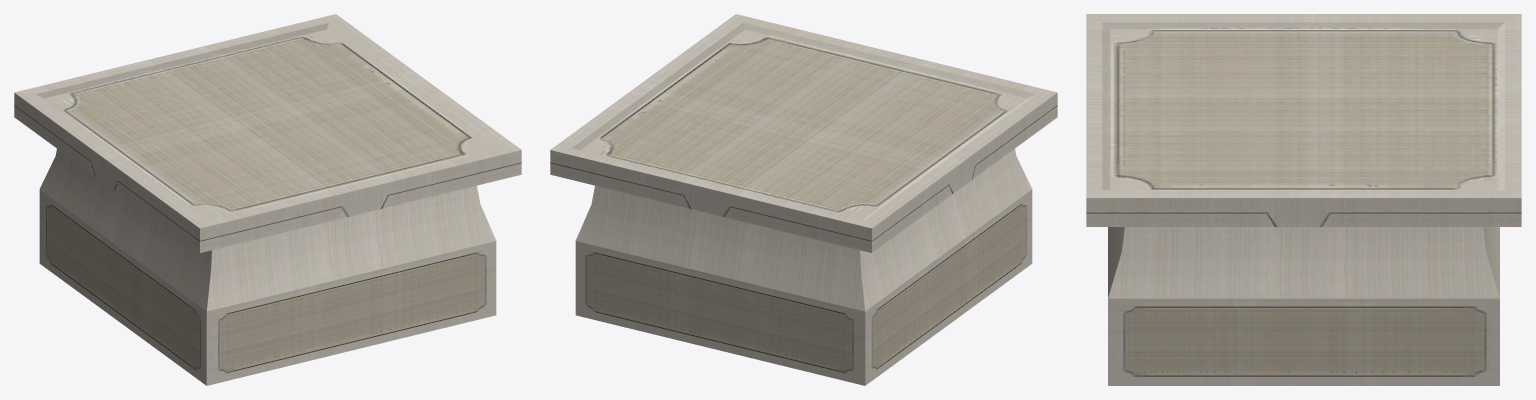
Rendered from frn_all_eleg_end_table_s01.fbx.
3 renders of one model, left to right at view 1: azimuth 30°, elevation 25°; view 2: azimuth 150°, elevation 25°; view 3: azimuth 270°, elevation 25°, orthographic. The views are drawn at different scales.
Visible parts, largest first — view 1: mesh_node; view 2: mesh_node; view 3: mesh_node.
Boxes of the visible parts, x1,y1,x2,y2 form: mesh_node: (14, 14, 521, 385); mesh_node: (550, 14, 1057, 385); mesh_node: (1086, 14, 1521, 385).
Bounding box in the file's own units: 0.8 × 0.3996 × 0.8.
Materials: 1 (1 with a texture image).
